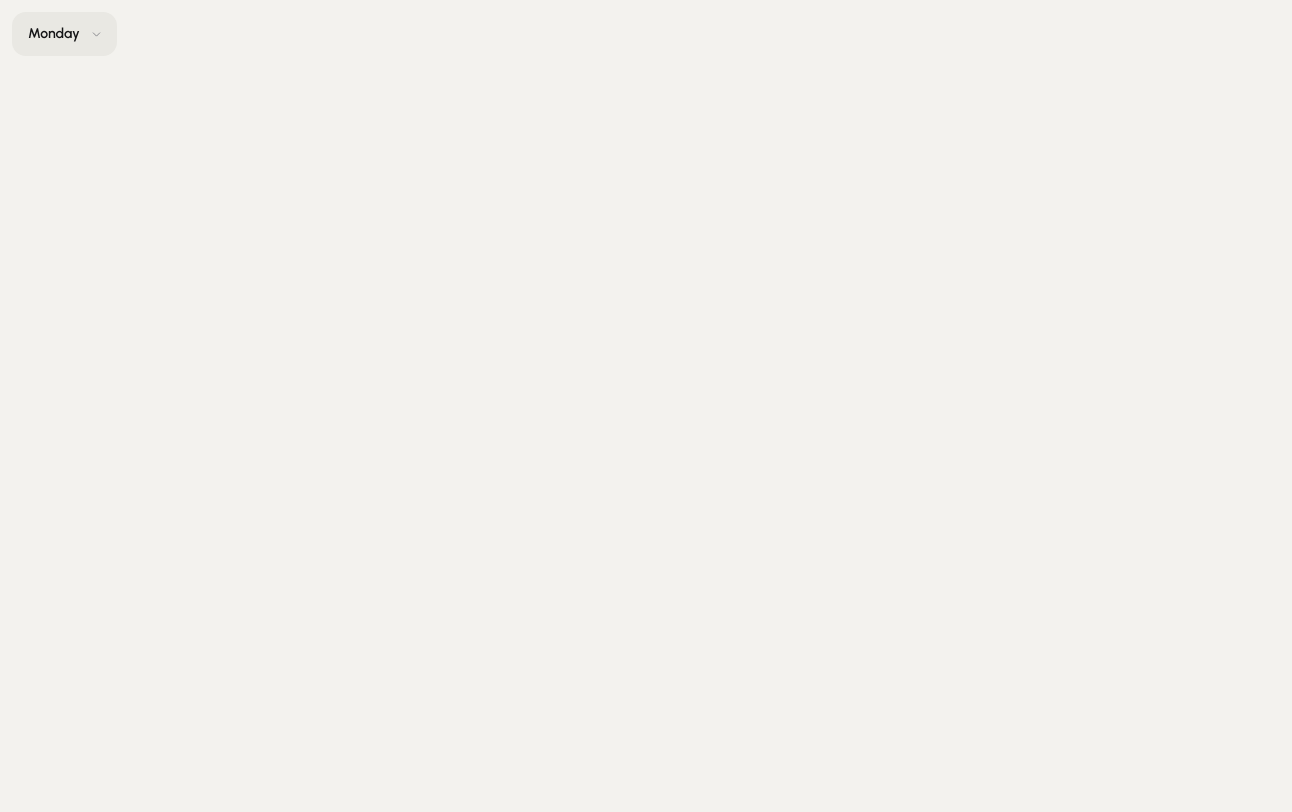
Select › closes on Escape and on an outside click without changing anything
The width and height of the screenshot is (1292, 812).
Click the button with aria-label "Send on: Monday".
click(64, 34)  # box [12,12,117,56]
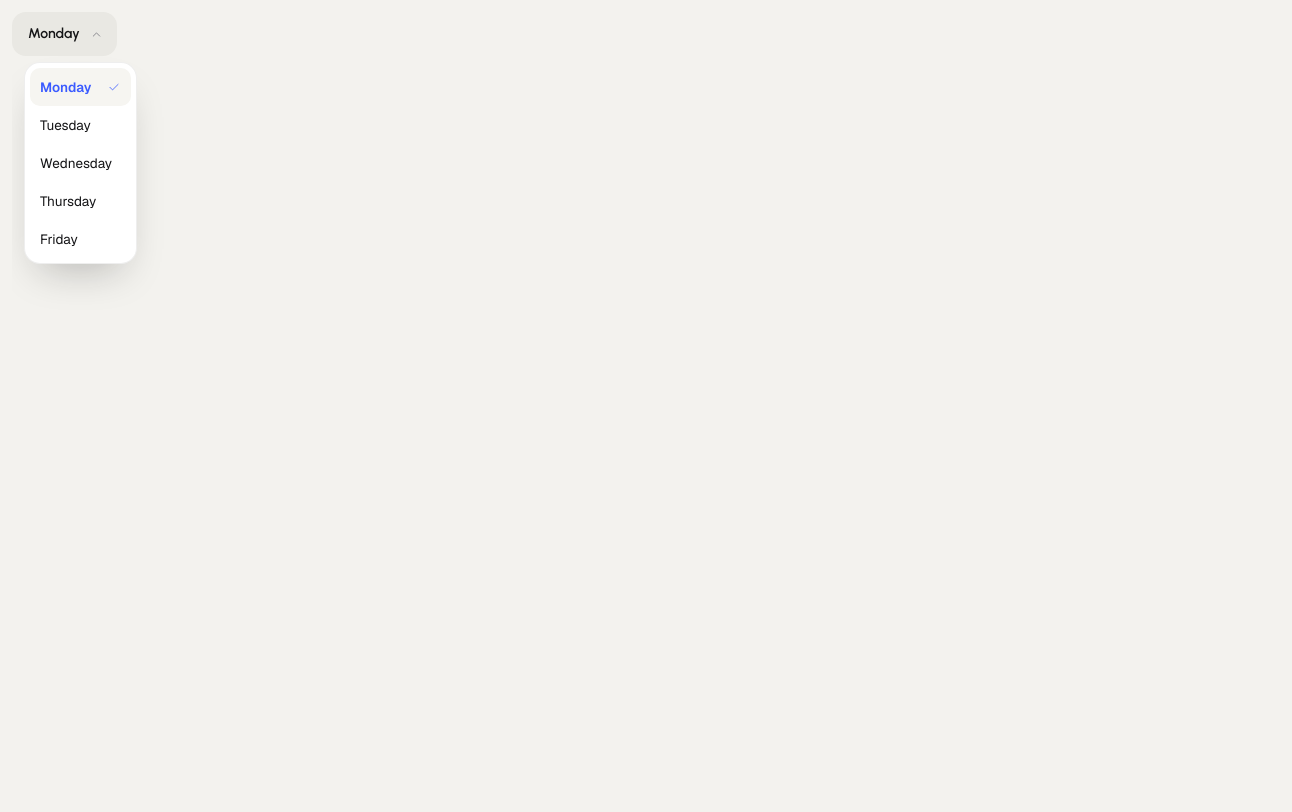
Press Escape
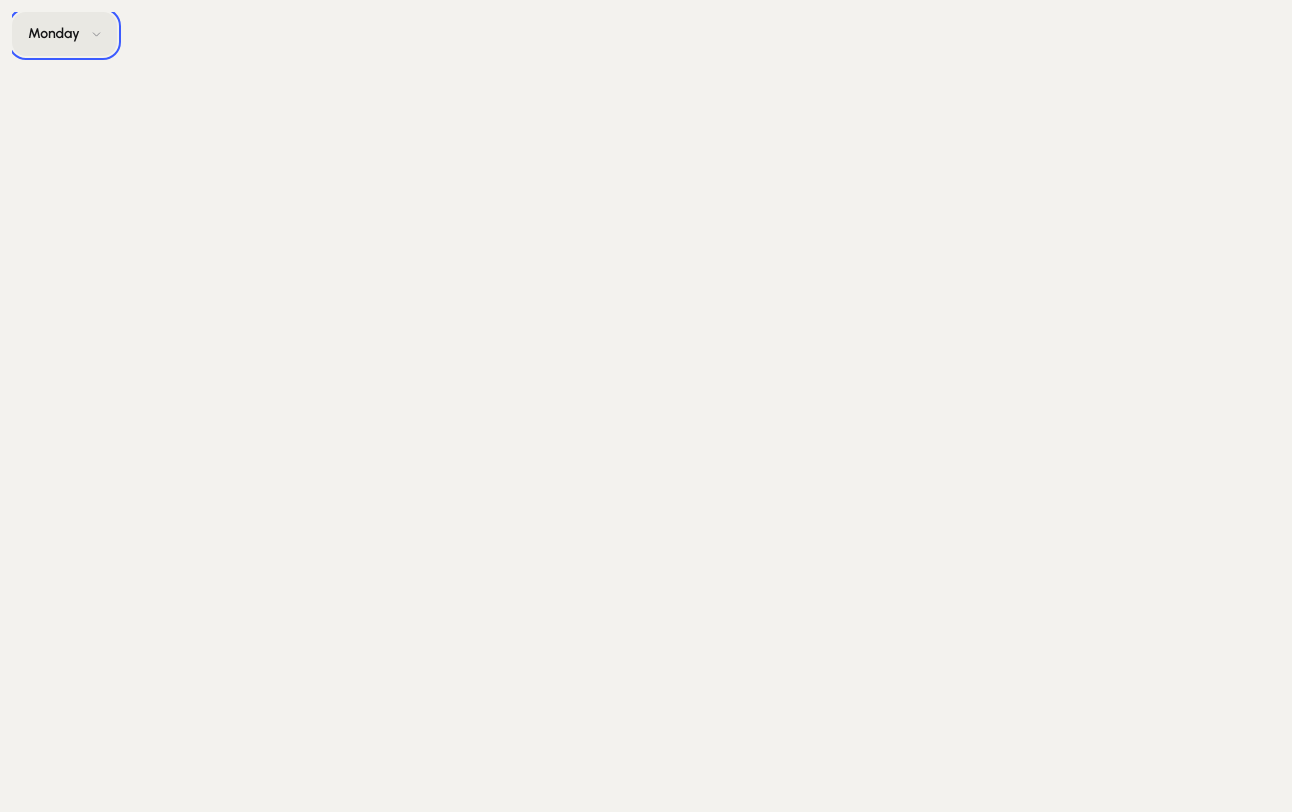
Check: the list is gone
Click the button with aria-label "Send on: Monday".
click(64, 34)  # box [12,12,117,56]
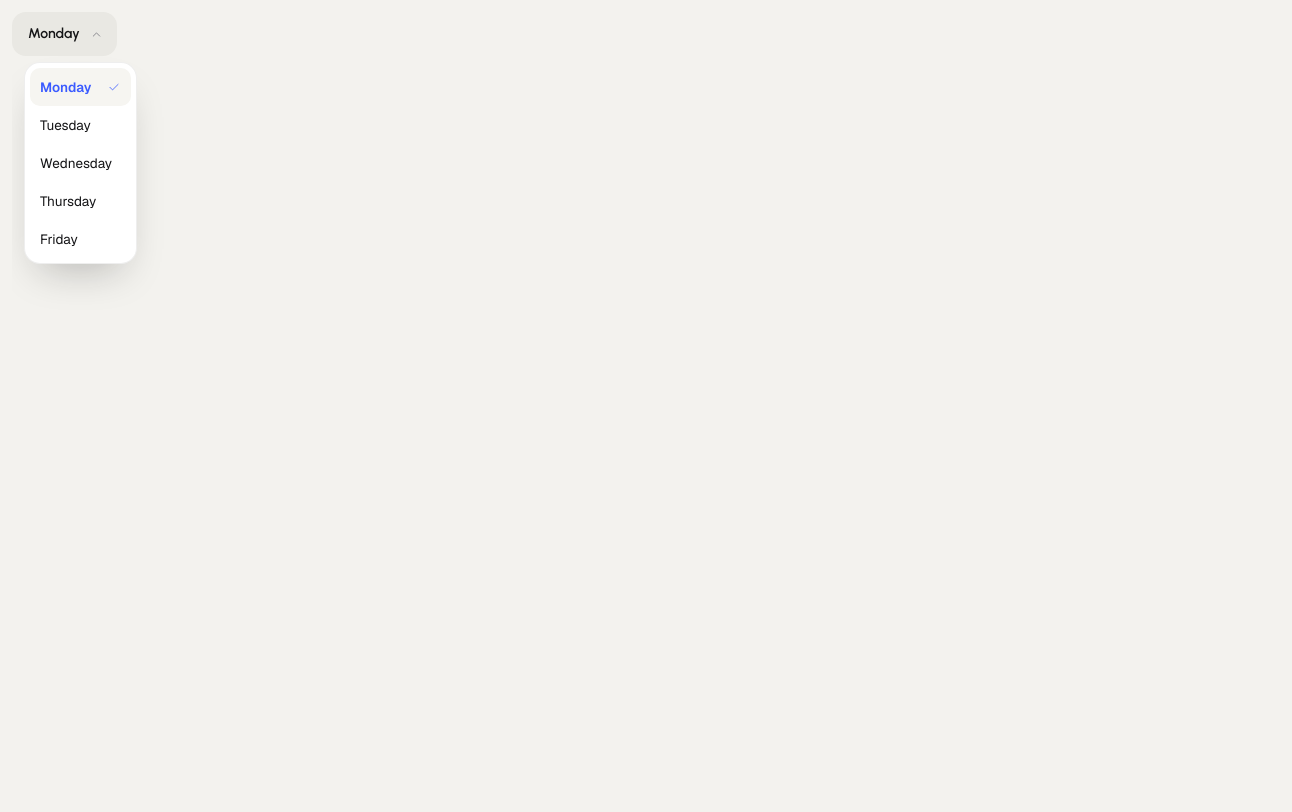
Click the element showing "Monday Monday Tuesday Wednesday Thursday Friday".
click(652, 412)  # box [12,12,1291,811]
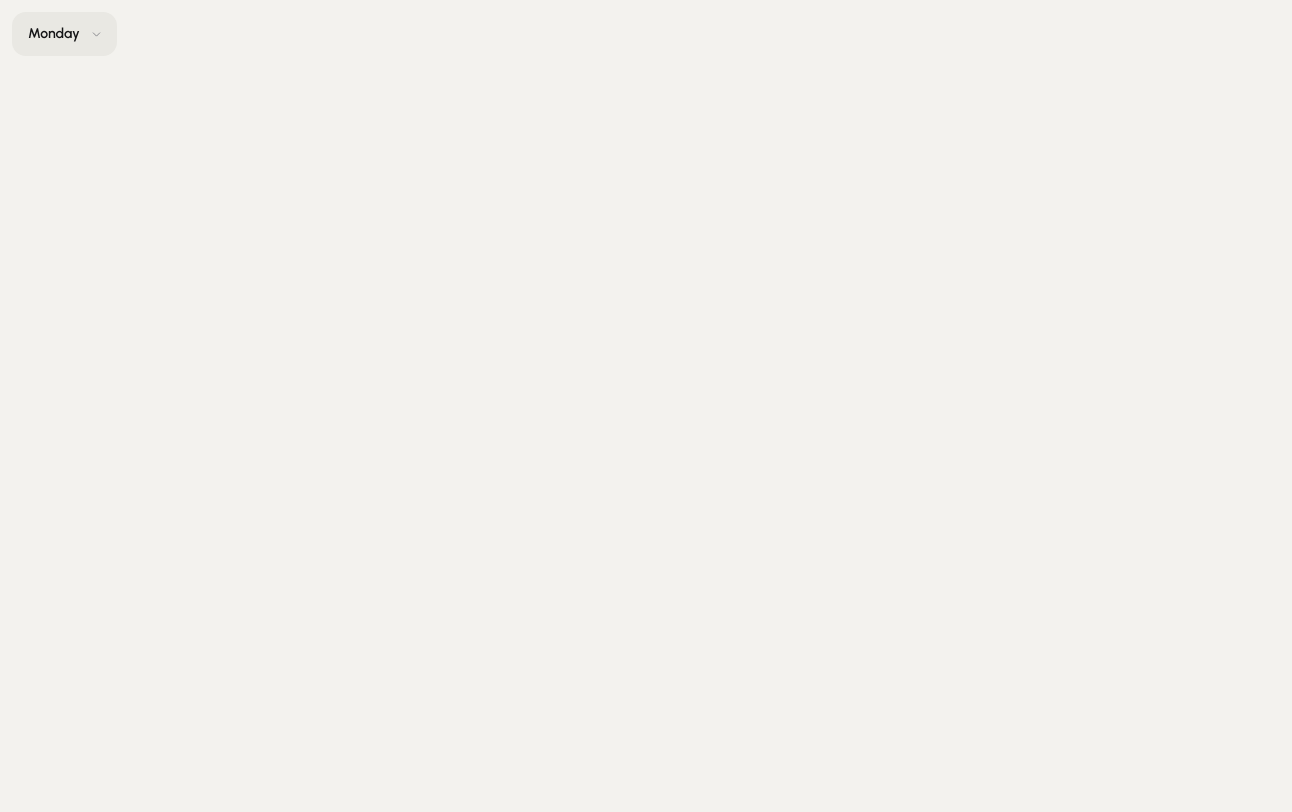
Check: the list is gone
